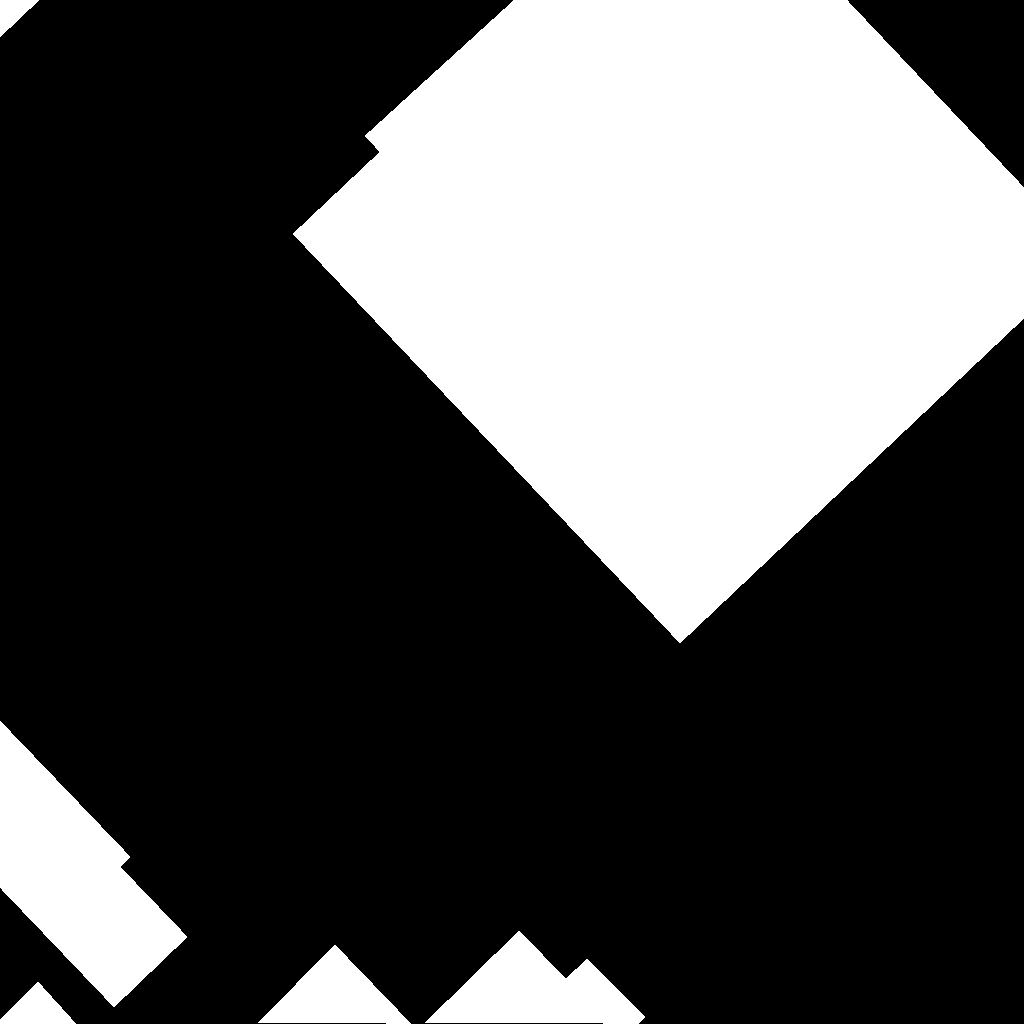building: (293, 0, 1024, 644), (0, 721, 188, 1008), (258, 931, 646, 1024), (0, 982, 77, 1024), (0, 0, 40, 38)
